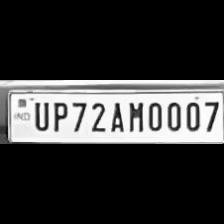0: (182, 98, 200, 132), (145, 100, 163, 132), (164, 100, 182, 132)
2: (87, 99, 107, 134)
7: (200, 98, 220, 132), (69, 99, 87, 134)
A: (108, 99, 125, 134)
M: (124, 99, 144, 134)
P: (49, 98, 69, 132)
U: (31, 98, 50, 132)
